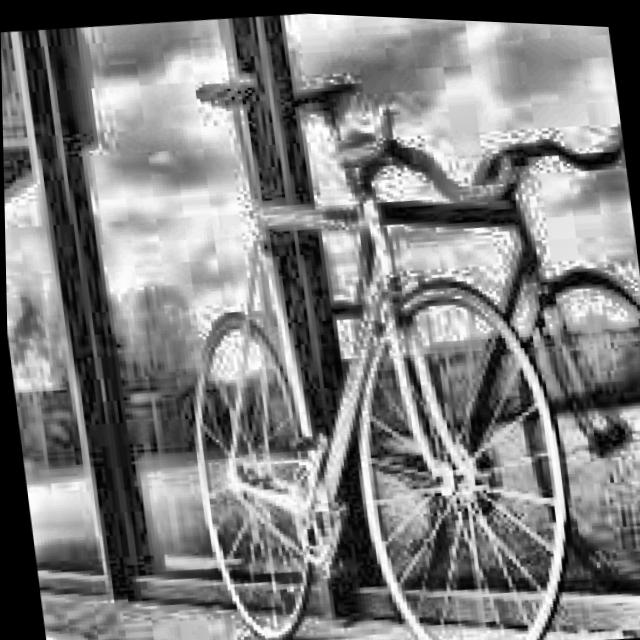bike: (111, 20, 640, 640)
